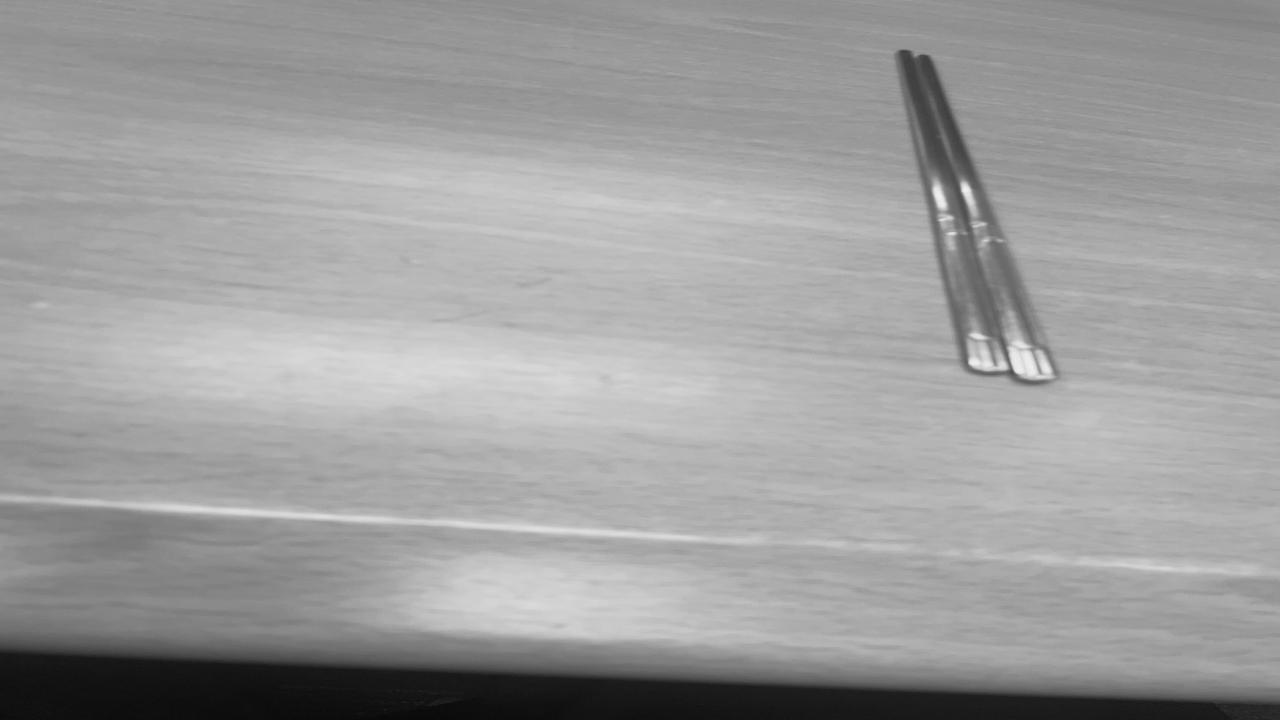chopstick: (899, 51, 1054, 378)
